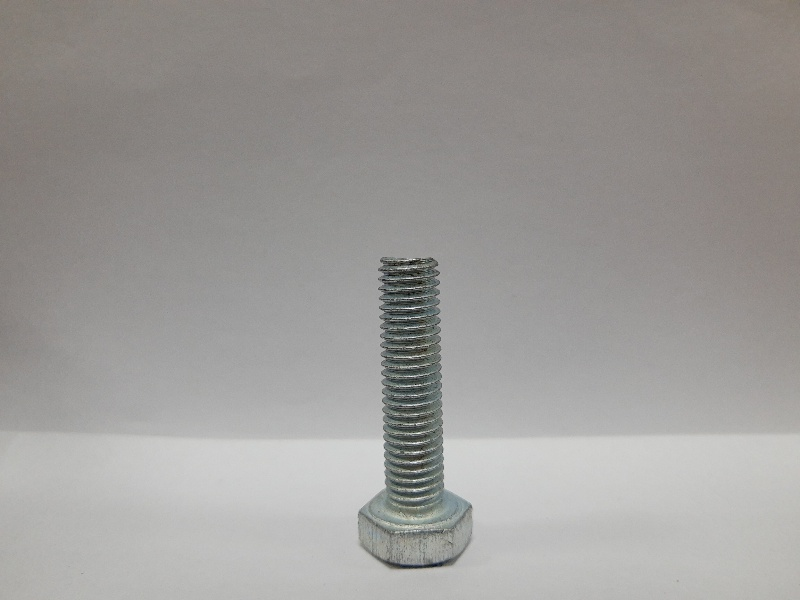pf: (351, 254, 482, 570)
